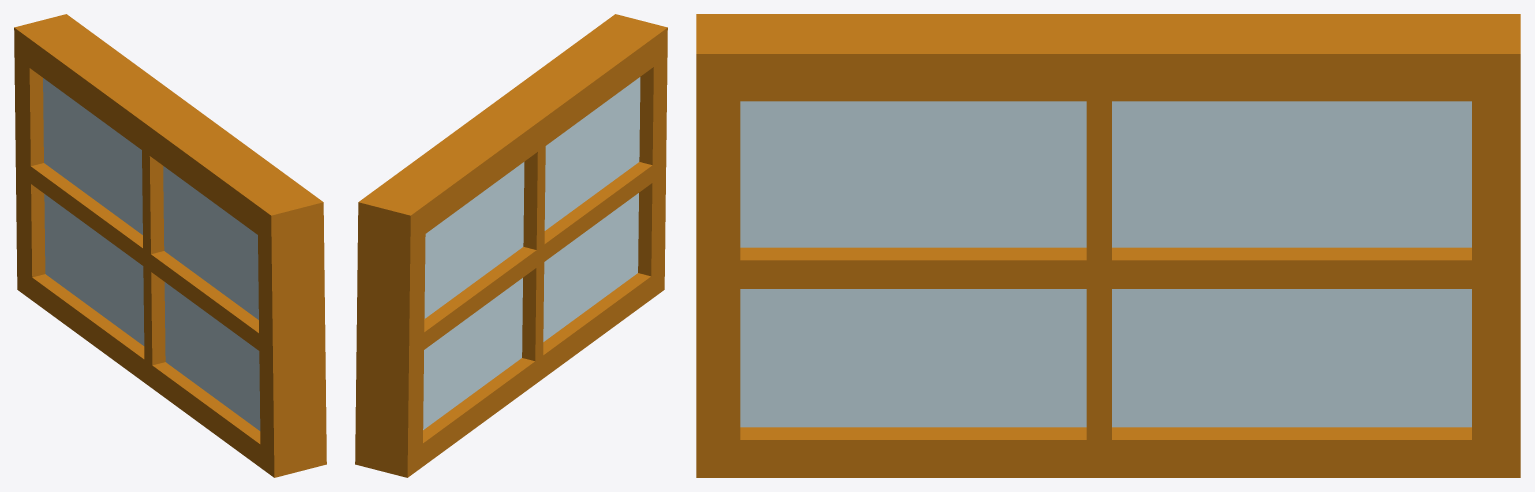
The model's file is ventana3.obj.
3 renders of one model, left to right at view 1: azimuth 30°, elevation 25°; view 2: azimuth 150°, elevation 25°; view 3: azimuth 270°, elevation 25°, orthographic. The views are drawn at different scales.
Parts seen in each view (by area): view 1: pasted__pasted__pasted__pasted__pCube17 pasted__pasted__pasted__; view 2: pasted__pasted__pasted__pasted__pCube17 pasted__pasted__pasted__; view 3: pasted__pasted__pasted__pasted__pCube17 pasted__pasted__pasted__.
Part boxes in pixels (bbox=[...]): pasted__pasted__pasted__pasted__pCube17 pasted__pasted__pasted__: bbox=[14, 14, 326, 477]; pasted__pasted__pasted__pasted__pCube17 pasted__pasted__pasted__: bbox=[355, 14, 667, 477]; pasted__pasted__pasted__pasted__pCube17 pasted__pasted__pasted__: bbox=[696, 14, 1520, 477].
Bounding box in the file's own units: 0.2166 × 0.9815 × 1.73.
1 material, 1 textured.
